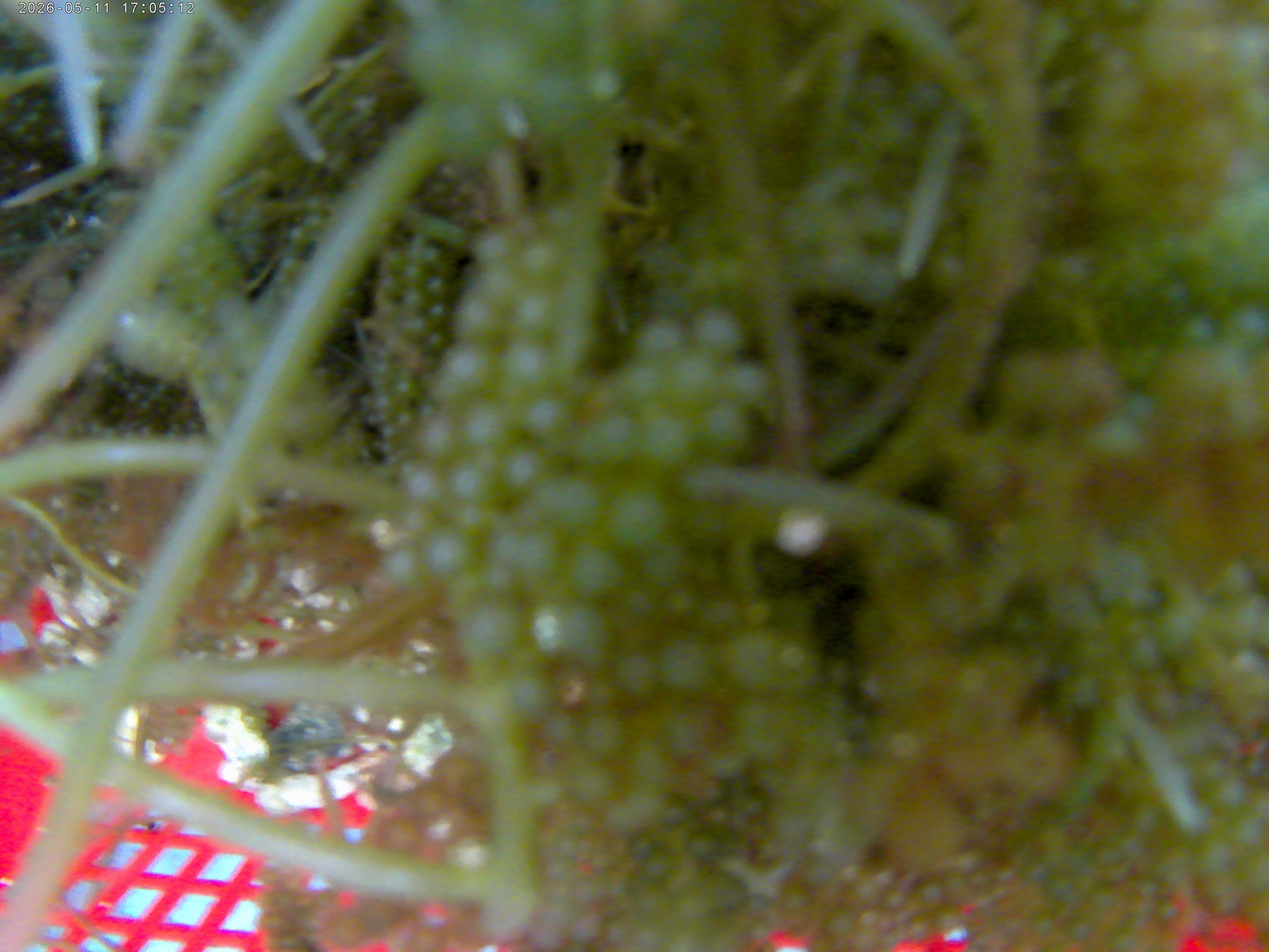Harvestable: (493, 522, 566, 593), (634, 408, 692, 473), (536, 478, 605, 531), (427, 525, 480, 590), (577, 409, 630, 468), (502, 337, 554, 396), (666, 357, 724, 409), (470, 605, 522, 661), (610, 491, 663, 544), (689, 311, 743, 362), (695, 406, 746, 458), (517, 392, 569, 441), (634, 315, 687, 363), (440, 344, 495, 390), (458, 404, 510, 452), (569, 544, 617, 595), (722, 357, 770, 407), (472, 260, 520, 309), (517, 239, 568, 285), (510, 289, 557, 338), (452, 301, 498, 346), (616, 365, 661, 409), (502, 444, 543, 489), (414, 417, 454, 459), (453, 466, 492, 508), (476, 224, 515, 262), (385, 548, 422, 587), (1228, 811, 1265, 849), (1218, 556, 1254, 595), (403, 469, 444, 500), (1127, 634, 1161, 670), (1212, 777, 1247, 810), (1232, 646, 1263, 678), (401, 504, 432, 534), (1200, 757, 1227, 782), (402, 315, 428, 339), (402, 286, 426, 311), (396, 378, 417, 401), (403, 263, 424, 283), (380, 274, 400, 294), (373, 393, 394, 412), (428, 302, 447, 322), (289, 226, 308, 246), (426, 279, 444, 298), (280, 256, 298, 274), (397, 413, 413, 430), (381, 424, 397, 440), (382, 440, 396, 453)
